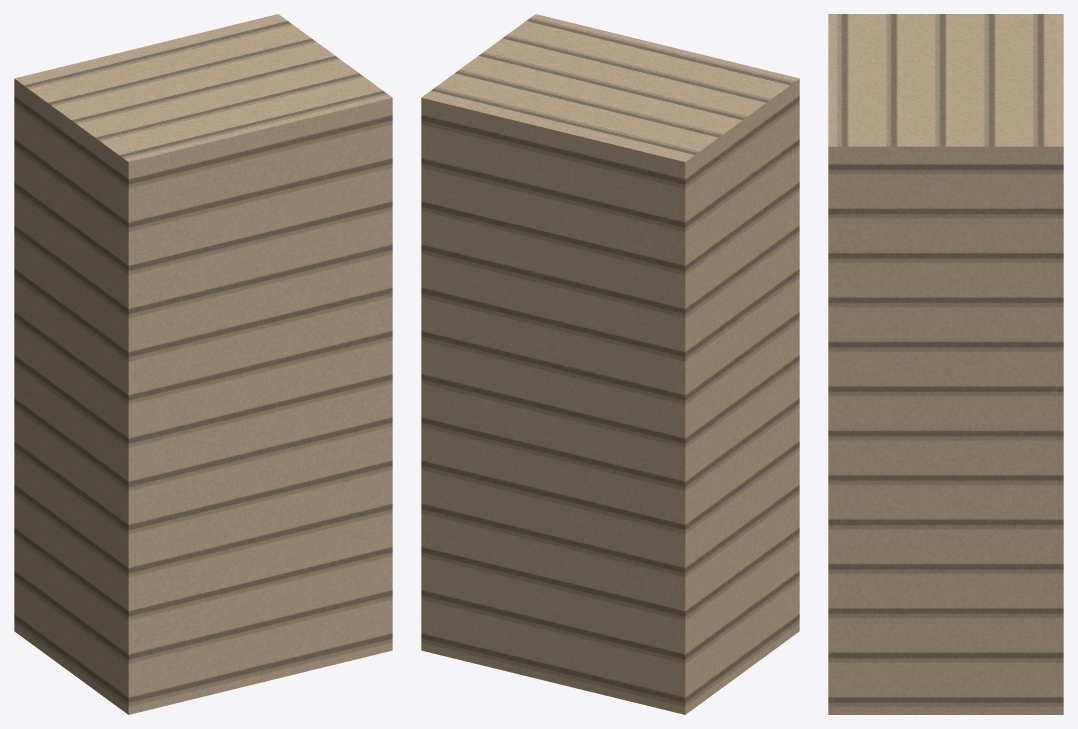
Rendered from endcap_display.glb.
3 views of the same model, side by side, from view 1: azimuth 30°, elevation 25°; view 2: azimuth 150°, elevation 25°; view 3: azimuth 270°, elevation 25° (orthographic). The views are drawn at different scales.
Parts seen in each view (by area): view 1: endcap_display-col; view 2: endcap_display-col; view 3: endcap_display-col.
Boxes of the visible parts, <box> form: endcap_display-col: <box>14,14,392,714</box>; endcap_display-col: <box>421,14,799,714</box>; endcap_display-col: <box>828,14,1063,714</box>.
Bounding box in the file's own units: 0.8 × 1.6 × 0.6.
Materials: 1 (1 with a texture image).
